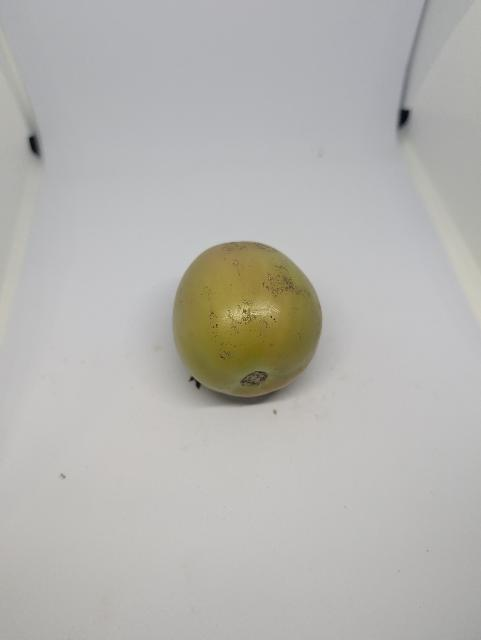breaker: (167, 230, 330, 409)
